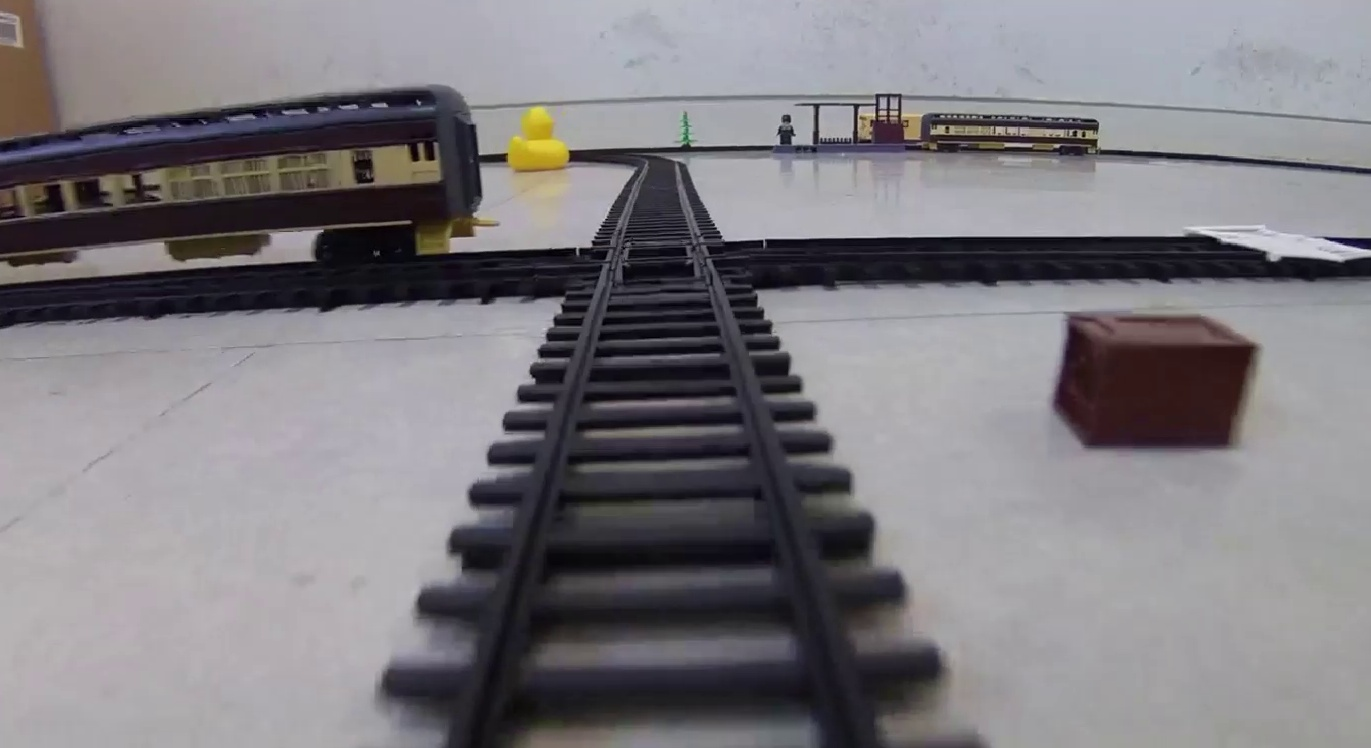box: (1050, 310, 1266, 452)
web: (1192, 224, 1371, 263)
